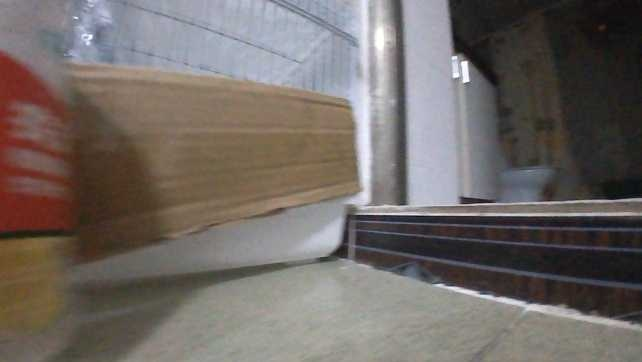door_sill: (349, 207, 640, 326)
toilet: (500, 162, 558, 205)
